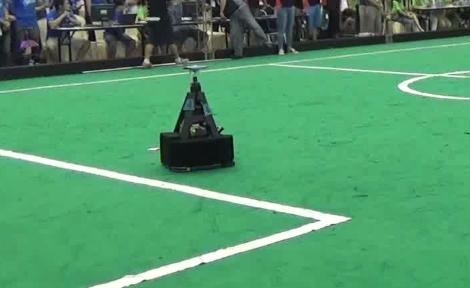robot: (157, 64, 235, 171)
